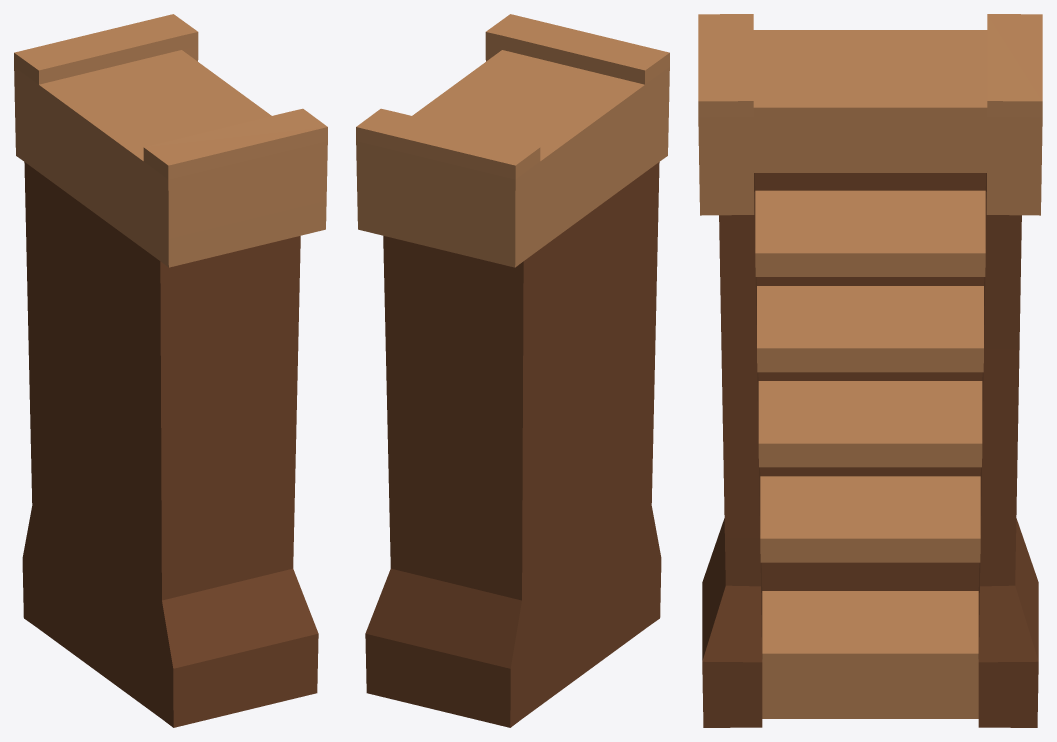
File: BookCase.glb
3 renders of one model, left to right at view 1: azimuth 30°, elevation 25°; view 2: azimuth 150°, elevation 25°; view 3: azimuth 270°, elevation 25°, orthographic. The views are drawn at different scales.
Bounding box in the file's own units: 0.4519 × 1.53 × 0.7577.
